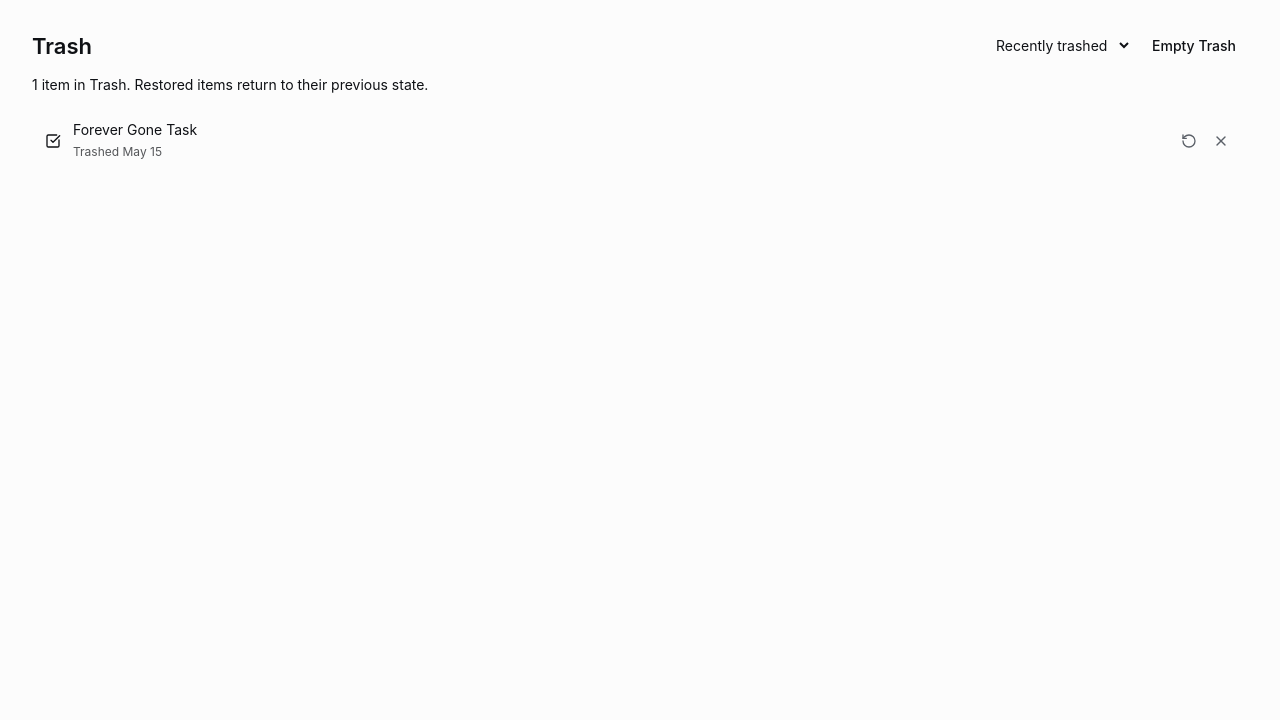
TrashView — populated › clicking Delete-forever button opens confirmation prompt
Click the button named "delete forever".
click(1221, 141)  # box [1207,127,1235,155]
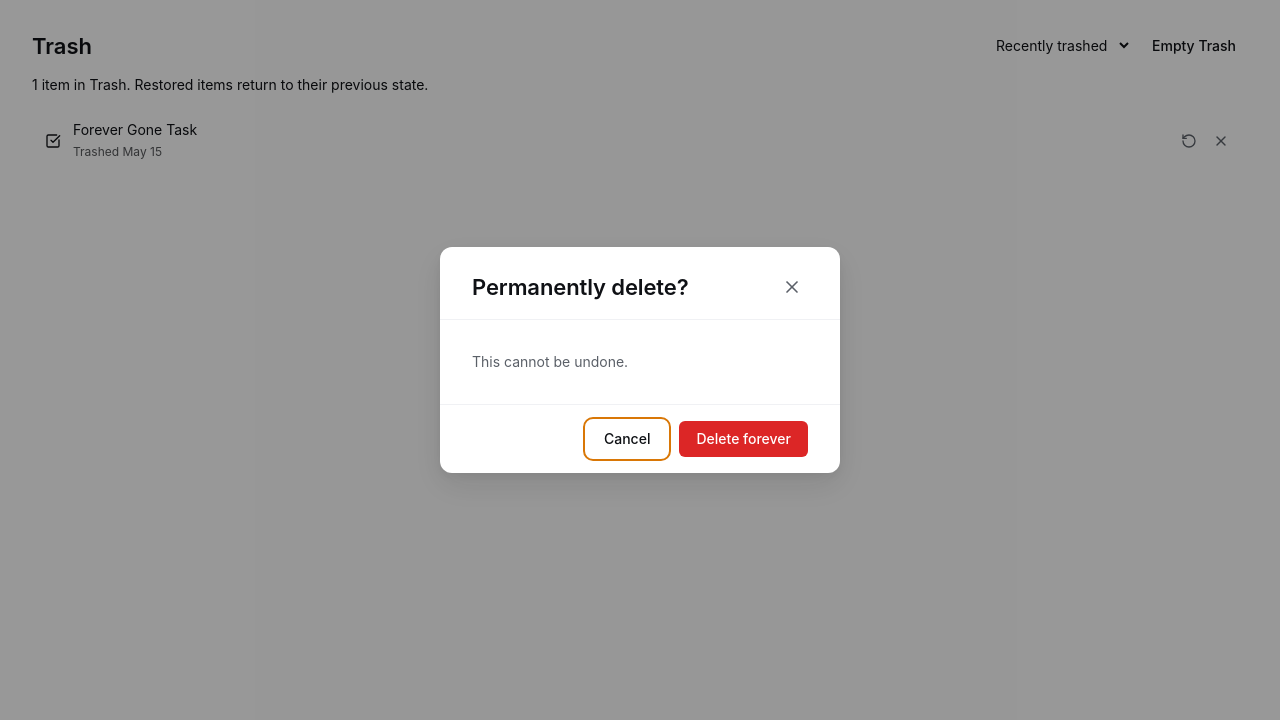
Expected: the heading "Permanently delete?" is shown, [472,272,688,302]
Expected: the text "This cannot be undone." is shown, [472,353,628,370]
